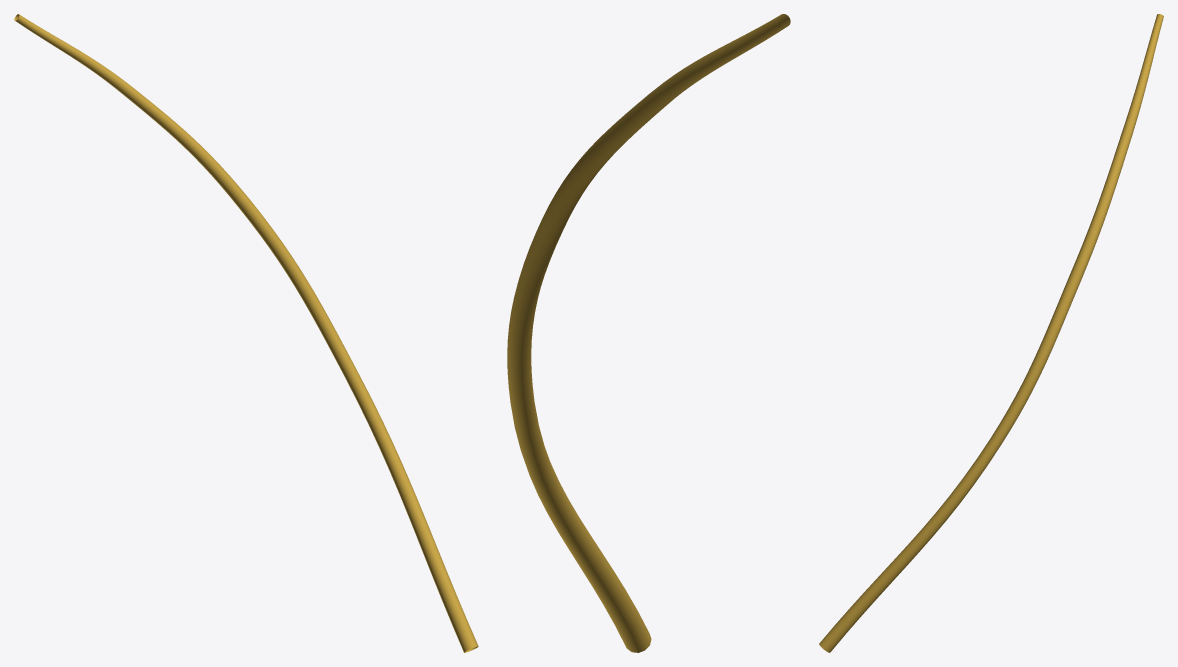
3 renders of one model, left to right at view 1: azimuth 30°, elevation 25°; view 2: azimuth 150°, elevation 25°; view 3: azimuth 270°, elevation 25°, orthographic. The views are drawn at different scales.
Visible parts, largest first — view 1: 左侧肩胛下神经上支; view 2: 左侧肩胛下神经上支; view 3: 左侧肩胛下神经上支.
Part boxes in pixels (x1=…): 左侧肩胛下神经上支: x1=14, y1=14, x2=478, y2=652; 左侧肩胛下神经上支: x1=507, y1=14, x2=790, y2=652; 左侧肩胛下神经上支: x1=819, y1=14, x2=1163, y2=652.
Bounding box in the file's own units: 0.0474 × 0.0925 × 0.0557.
